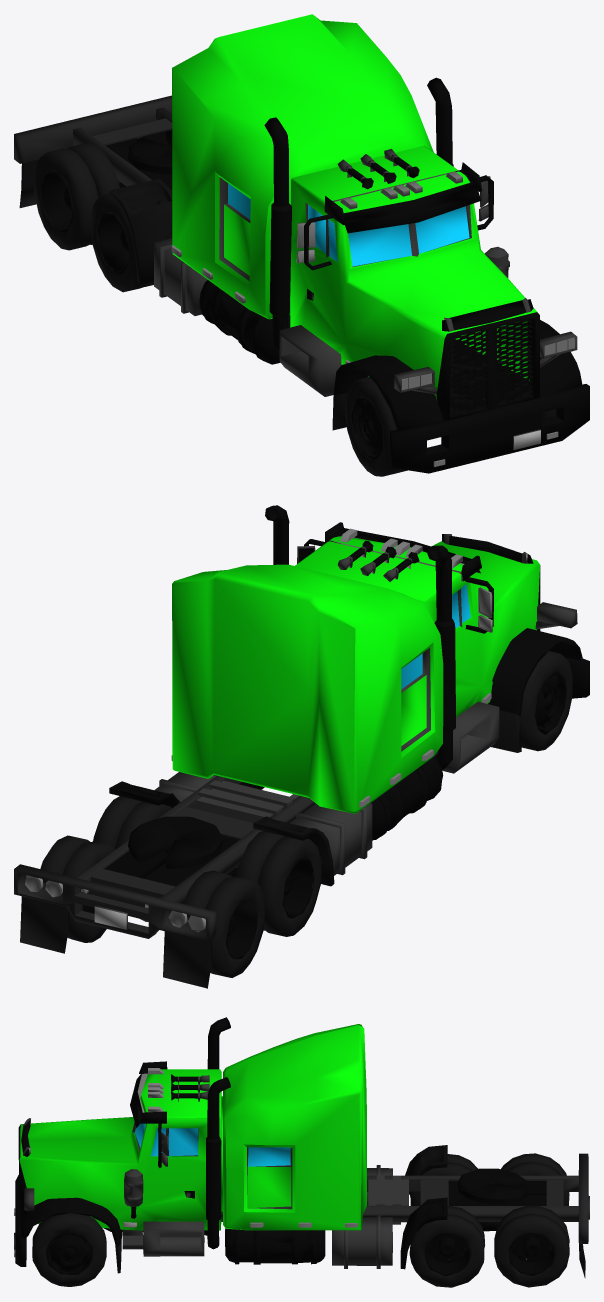
Rendered from semi_lod2.obj.
3 renders of one model, top to bottom at view 1: azimuth 30°, elevation 25°; view 2: azimuth 150°, elevation 25°; view 3: azimuth 270°, elevation 25°, orthographic. The views are drawn at different scales.
Visible parts, largest first — view 1: semi; view 2: semi; view 3: semi.
Boxes of the visible parts, <box> form: semi: <box>14,14,589,476</box>; semi: <box>14,505,589,988</box>; semi: <box>14,1017,589,1287</box>.
Bounding box in the file's own units: 8.58 × 11.86 × 29.11.
